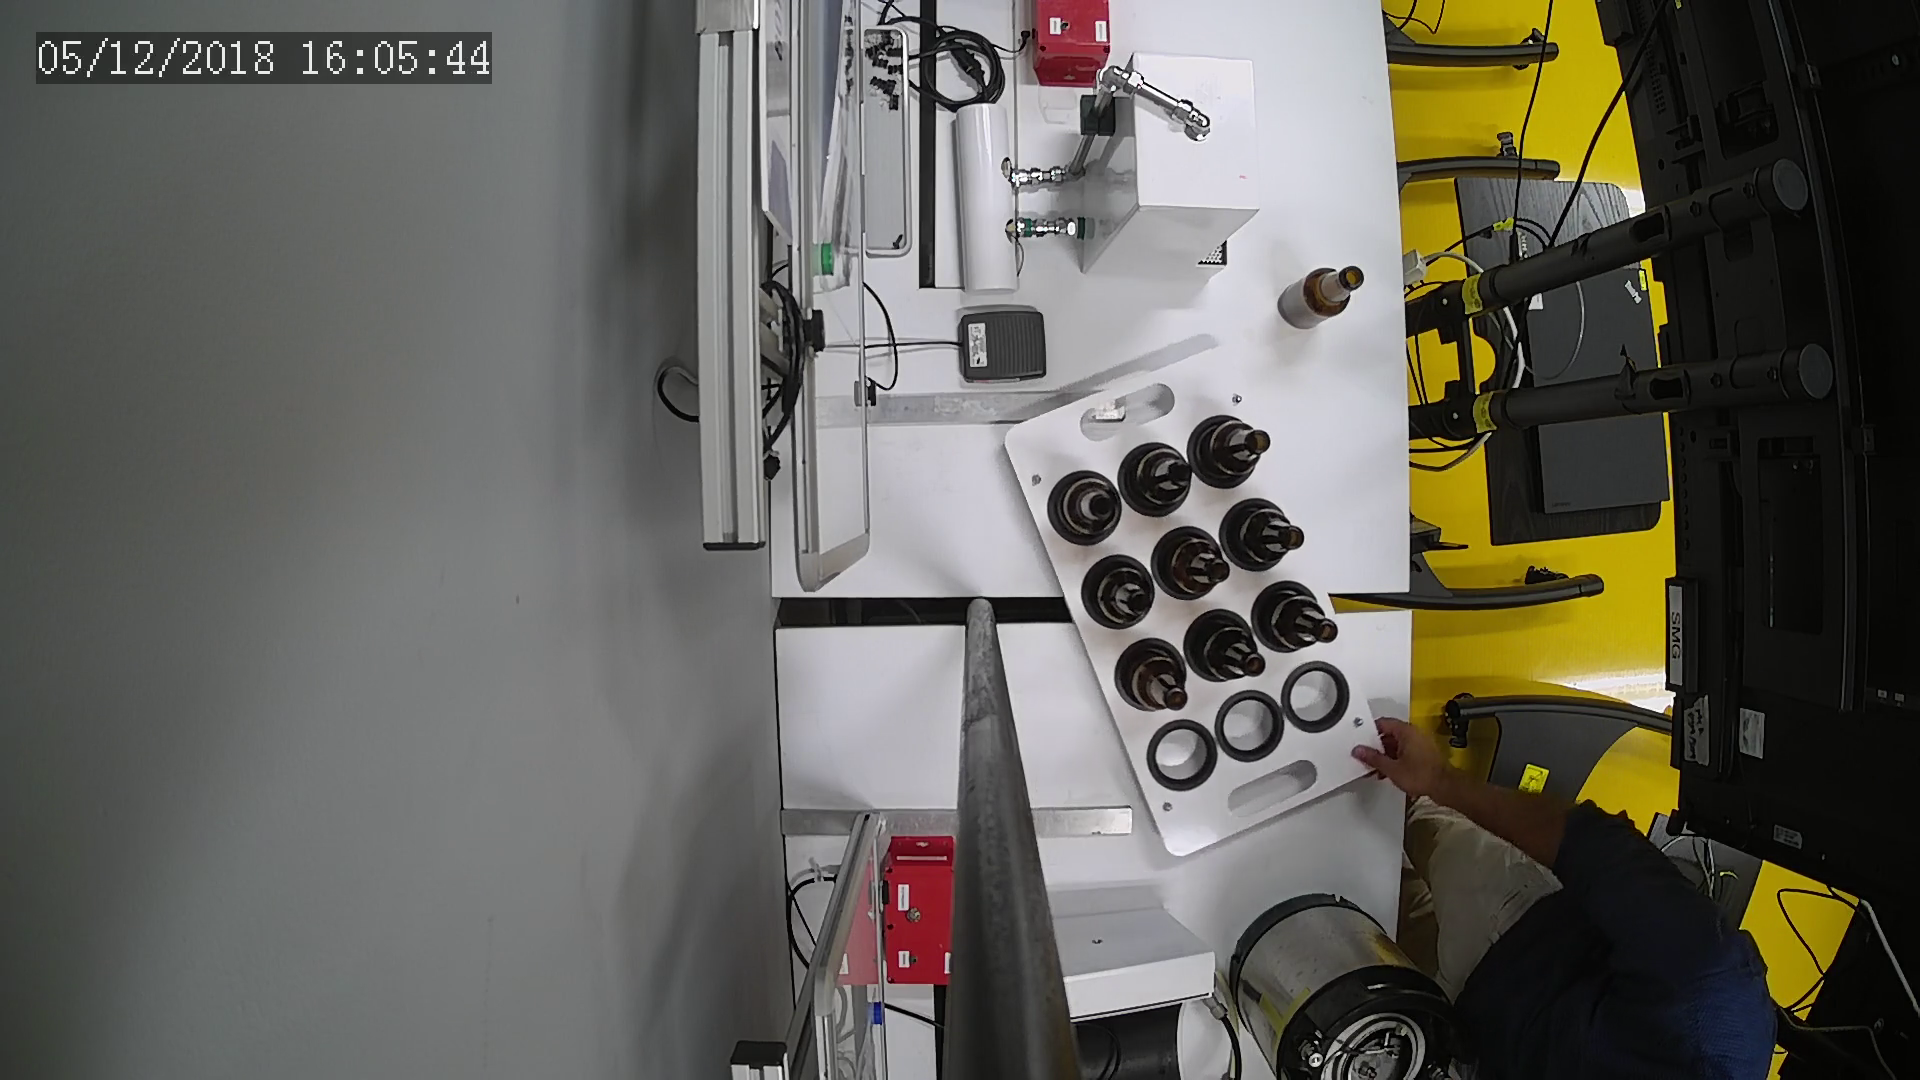filled_bottle: (1108, 638, 1199, 717), (1047, 468, 1131, 551), (1253, 582, 1345, 657), (1222, 498, 1309, 576), (1079, 553, 1160, 634), (1118, 436, 1197, 520), (1185, 609, 1269, 688), (1191, 415, 1273, 491), (1153, 526, 1229, 605)
trolley: (997, 349, 1393, 865)
unfilled_bottle: (1276, 262, 1366, 332)
